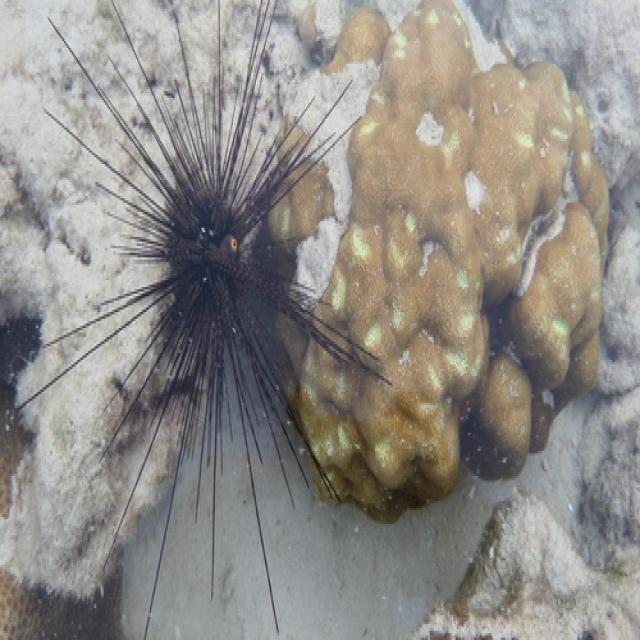Urchin: (12, 2, 392, 640)
